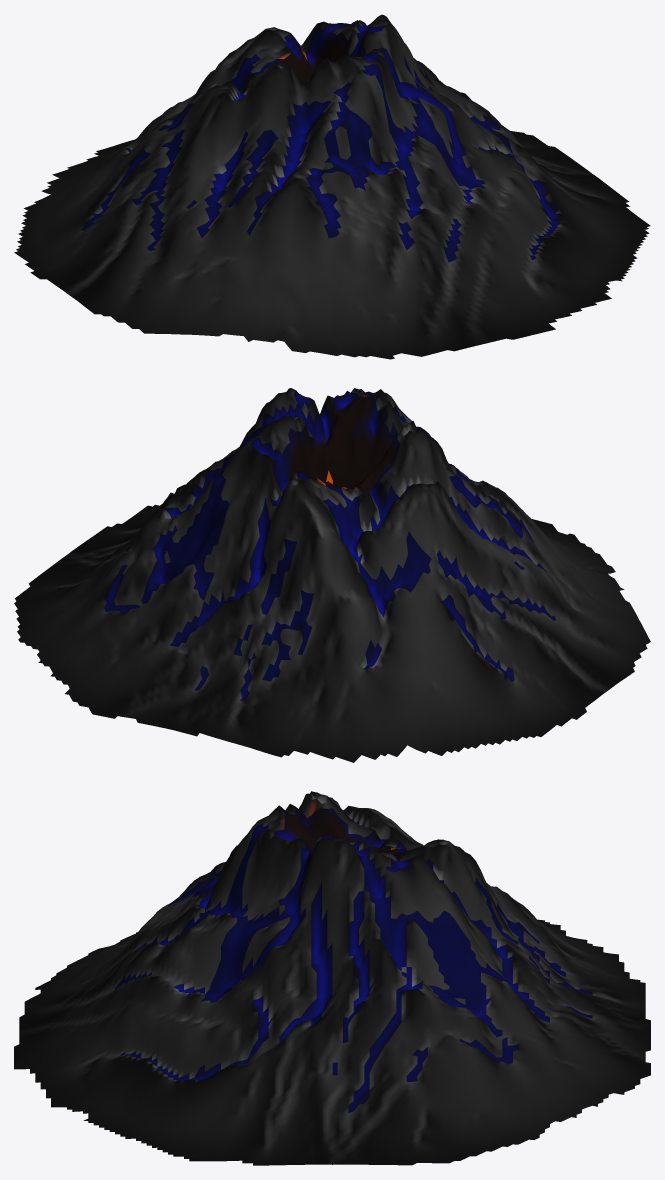
File: VolcanoA.fbx
The picture shows the model from 3 angles, top to bottom: view 1: azimuth 30°, elevation 25°; view 2: azimuth 150°, elevation 25°; view 3: azimuth 270°, elevation 25°; orthographic projection. The views are drawn at different scales.
Parts seen in each view (by area): view 1: Landscape; view 2: Landscape; view 3: Landscape.
Boxes of the visible parts, left/top/right/bottom form: Landscape: left=14, top=14, right=650, bottom=359; Landscape: left=14, top=388, right=650, bottom=762; Landscape: left=14, top=791, right=650, bottom=1165.
Size of the model in its own units: 191 by 72.19 by 189.
